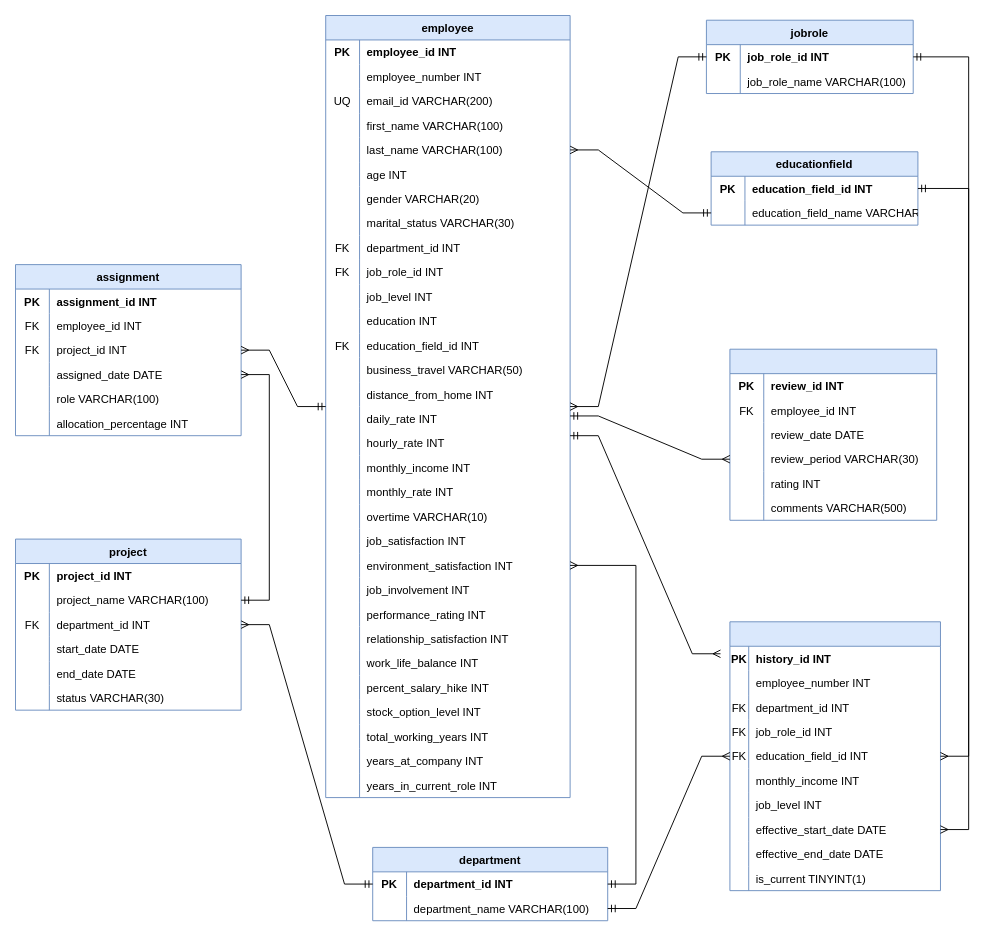
This 984x936 diagram has some shape labels left out. The shapes that lost their labels are listed below. From the top down, each one's box as (x1, y1, x2, y2) in pixels, then its label:
(729, 348, 937, 520): reviews
(729, 621, 940, 891): employee_scd_history
